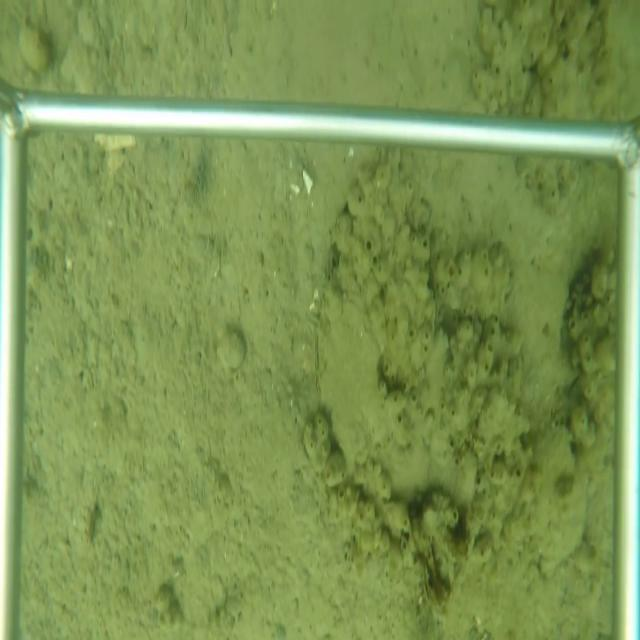Oyster-Closed: (313, 269, 483, 514)
Oyster-Indeterminate: (525, 419, 594, 582)
